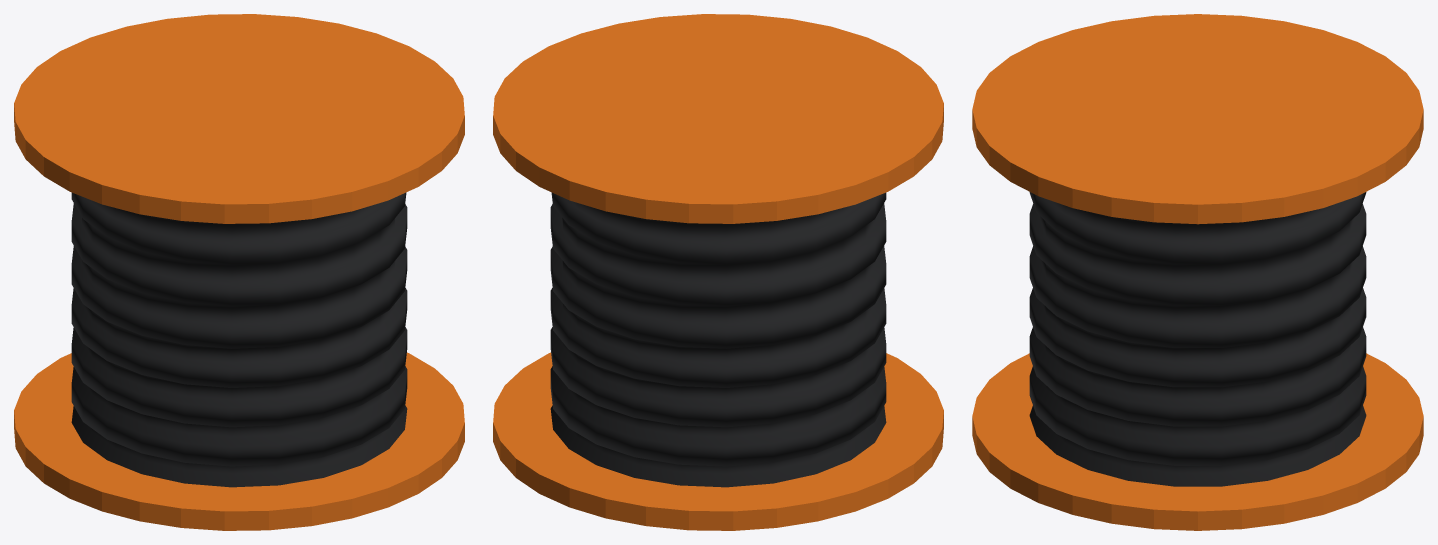
Rendered from wire.fbx.
3 views of the same model, side by side, from view 1: azimuth 30°, elevation 25°; view 2: azimuth 150°, elevation 25°; view 3: azimuth 270°, elevation 25° (orthographic).
Parts seen in each view (by area): view 1: Cylinder, Circle.001, Circle; view 2: Cylinder, Circle.001, Circle; view 3: Cylinder, Circle.001, Circle.
Boxes of the visible parts, x1,y1,x2,y2 form: Cylinder: (71, 192, 407, 487); Circle.001: (14, 14, 464, 223); Circle: (14, 352, 464, 530); Cylinder: (550, 192, 886, 487); Circle.001: (493, 14, 943, 223); Circle: (493, 352, 943, 530); Cylinder: (1029, 192, 1366, 486); Circle.001: (972, 14, 1423, 224); Circle: (972, 353, 1423, 530).
Size of the model in its own units: 20 by 15.95 by 20.
